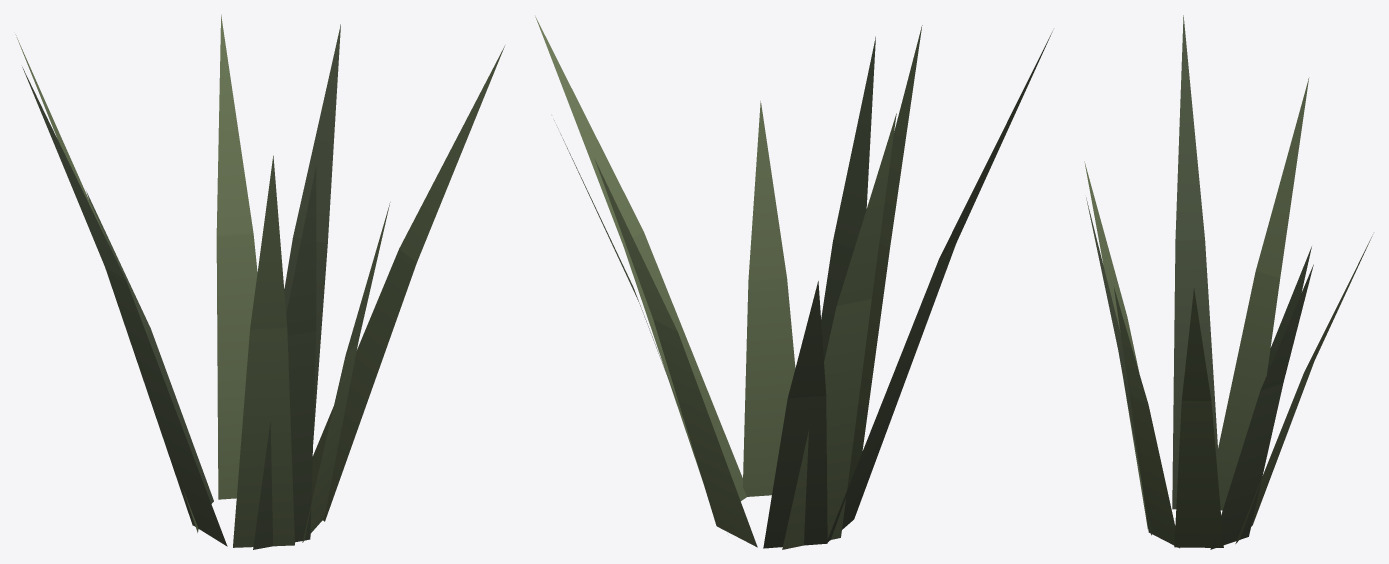
Rendered from grass_tuft.glb.
3 views of the same model, side by side, from view 1: azimuth 30°, elevation 25°; view 2: azimuth 150°, elevation 25°; view 3: azimuth 270°, elevation 25° (orthographic). The views are drawn at different scales.
Parts seen in each view (by area): view 1: GrassTuft; view 2: GrassTuft; view 3: GrassTuft.
Part boxes in pixels (bbox=[...]): GrassTuft: bbox=[15, 14, 504, 549]; GrassTuft: bbox=[535, 16, 1052, 549]; GrassTuft: bbox=[1084, 15, 1372, 549].
Bounding box in the file's own units: 0.2907 × 0.2975 × 0.1876.
